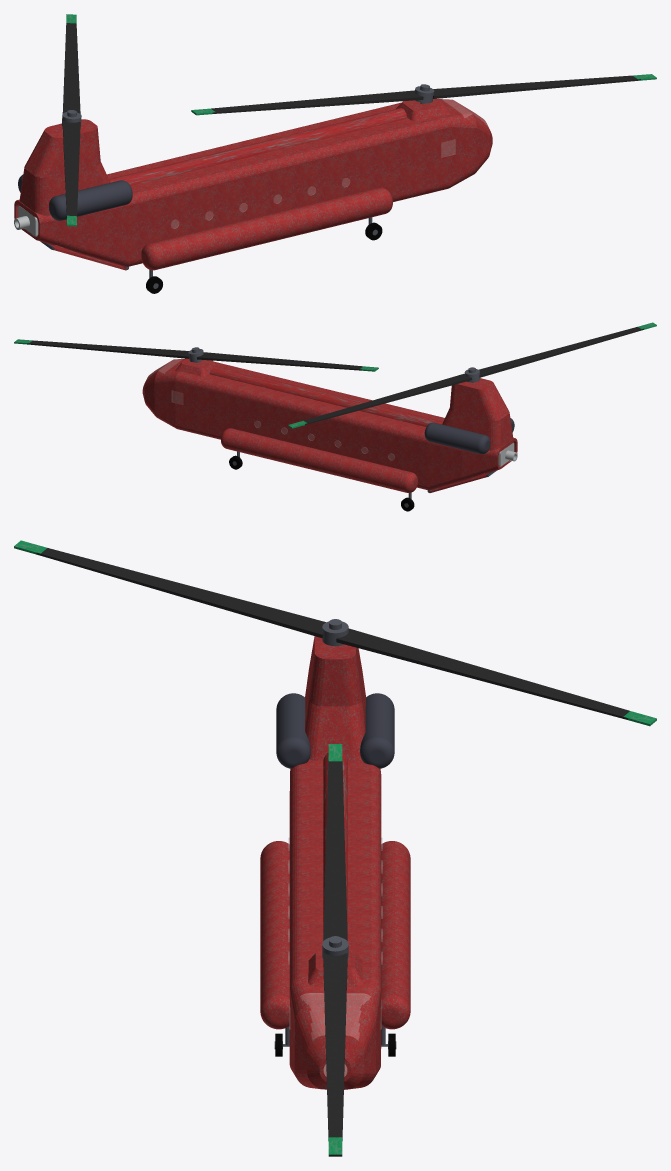
The model's file is Military_helicopter__0000.glb.
The picture shows the model from 3 angles, top to bottom: view 1: azimuth 30°, elevation 25°; view 2: azimuth 150°, elevation 25°; view 3: azimuth 270°, elevation 25°; orthographic projection. The views are drawn at different scales.
Parts seen in each view (by area): view 1: fuselage::hull, fuselage::right_sponson, fuselage::rear_pylon, fuselage::spine_fairing, fuselage::right_engine_nacelle, front_rotor::blade_1, front_rotor::blade_0, rear_rotor::blade_1, rear_rotor::blade_0, fuselage::front_pylon, fuselage::rear_exhaust; view 2: fuselage::hull, fuselage::left_sponson, fuselage::rear_pylon, fuselage::spine_fairing, fuselage::left_engine_nacelle, rear_rotor::blade_0, rear_rotor::blade_1, front_rotor::blade_1, front_rotor::blade_0, fuselage::front_pylon, fuselage::rear_exhaust; view 3: fuselage::hull, fuselage::rear_pylon, fuselage::left_sponson, fuselage::right_sponson, rear_rotor::blade_0, rear_rotor::blade_1, front_rotor::blade_0, front_rotor::blade_1, fuselage::left_engine_nacelle, fuselage::right_engine_nacelle, fuselage::cockpit_canopy, fuselage::spine_fairing (+1 smaller).
Part boxes in pixels (<box>): fuselage::hull: <box>14,99,492,267</box>; fuselage::right_sponson: <box>141,187,392,270</box>; fuselage::rear_pylon: <box>19,119,110,217</box>; fuselage::spine_fairing: <box>109,108,407,185</box>; fuselage::right_engine_nacelle: <box>49,180,132,220</box>; front_rotor::blade_1: <box>211,90,423,113</box>; front_rotor::blade_0: <box>432,75,640,98</box>; rear_rotor::blade_1: <box>62,121,80,217</box>; rear_rotor::blade_0: <box>62,23,80,113</box>; fuselage::front_pylon: <box>396,98,450,121</box>; fuselage::rear_exhaust: <box>14,206,38,236</box>; fuselage::hull: <box>142,358,517,490</box>; fuselage::left_sponson: <box>221,428,417,492</box>; fuselage::rear_pylon: <box>442,378,513,451</box>; fuselage::spine_fairing: <box>209,366,442,426</box>; fuselage::left_engine_nacelle: <box>424,422,490,454</box>; rear_rotor::blade_0: <box>304,373,471,424</box>; rear_rotor::blade_1: <box>479,327,644,377</box>; front_rotor::blade_1: <box>197,352,362,370</box>; front_rotor::blade_0: <box>26,340,189,358</box>; fuselage::front_pylon: <box>175,358,218,376</box>; fuselage::rear_exhaust: <box>498,442,517,466</box>; fuselage::hull: <box>289,759,381,1089</box>; fuselage::rear_pylon: <box>305,636,365,760</box>; fuselage::left_sponson: <box>381,841,410,1029</box>; fuselage::right_sponson: <box>260,841,289,1029</box>; rear_rotor::blade_0: <box>336,628,629,719</box>; rear_rotor::blade_1: <box>36,548,325,637</box>; front_rotor::blade_0: <box>323,953,347,1156</box>; front_rotor::blade_1: <box>323,759,347,940</box>; fuselage::left_engine_nacelle: <box>360,693,394,768</box>; fuselage::right_engine_nacelle: <box>276,693,310,768</box>; fuselage::cockpit_canopy: <box>300,993,370,1076</box>; fuselage::spine_fairing: <box>323,752,347,932</box>.
Bounding box in the file's own units: 26.99 × 6.67 × 15.67.
10 materials, 8 textured.
